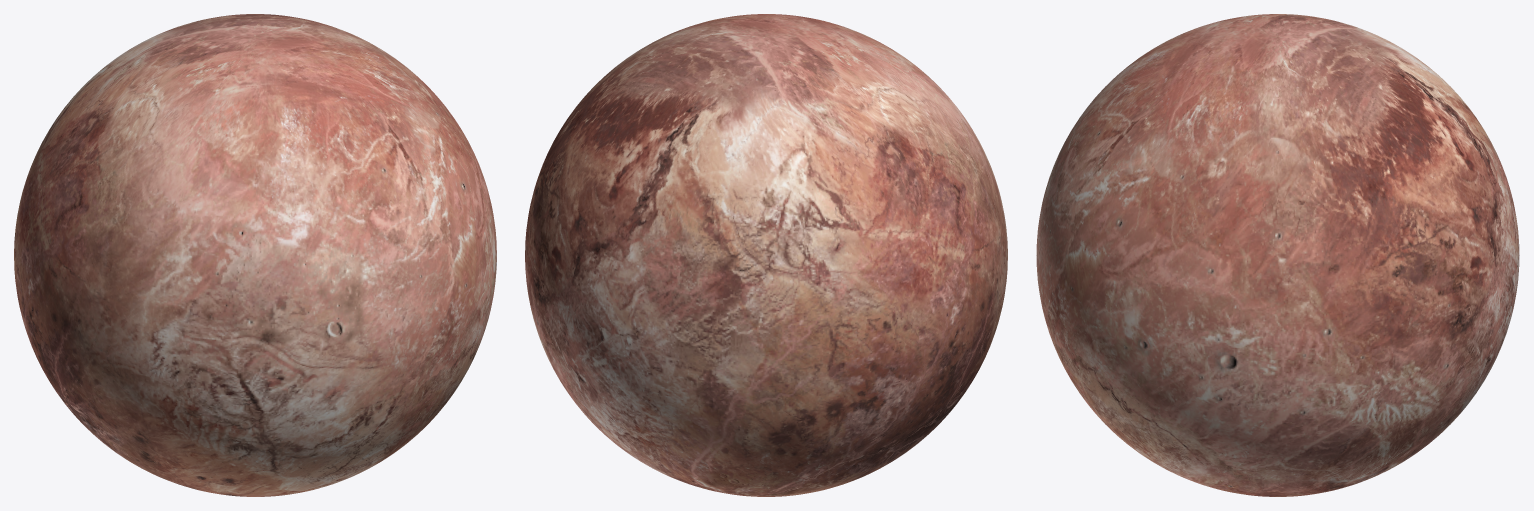
The model's file is makemake.glb.
3 renders of one model, left to right at view 1: azimuth 30°, elevation 25°; view 2: azimuth 150°, elevation 25°; view 3: azimuth 270°, elevation 25°, orthographic.
Visible parts, largest first — view 1: Sphere.001; view 2: Sphere.001; view 3: Sphere.001.
Boxes of the visible parts, x1,y1,x2,y2 form: Sphere.001: [14, 14, 496, 496]; Sphere.001: [525, 14, 1007, 496]; Sphere.001: [1036, 14, 1519, 496].
Size of the model in its own units: 0.6902 by 0.6902 by 0.6902.
Materials: 1 (1 with a texture image).
